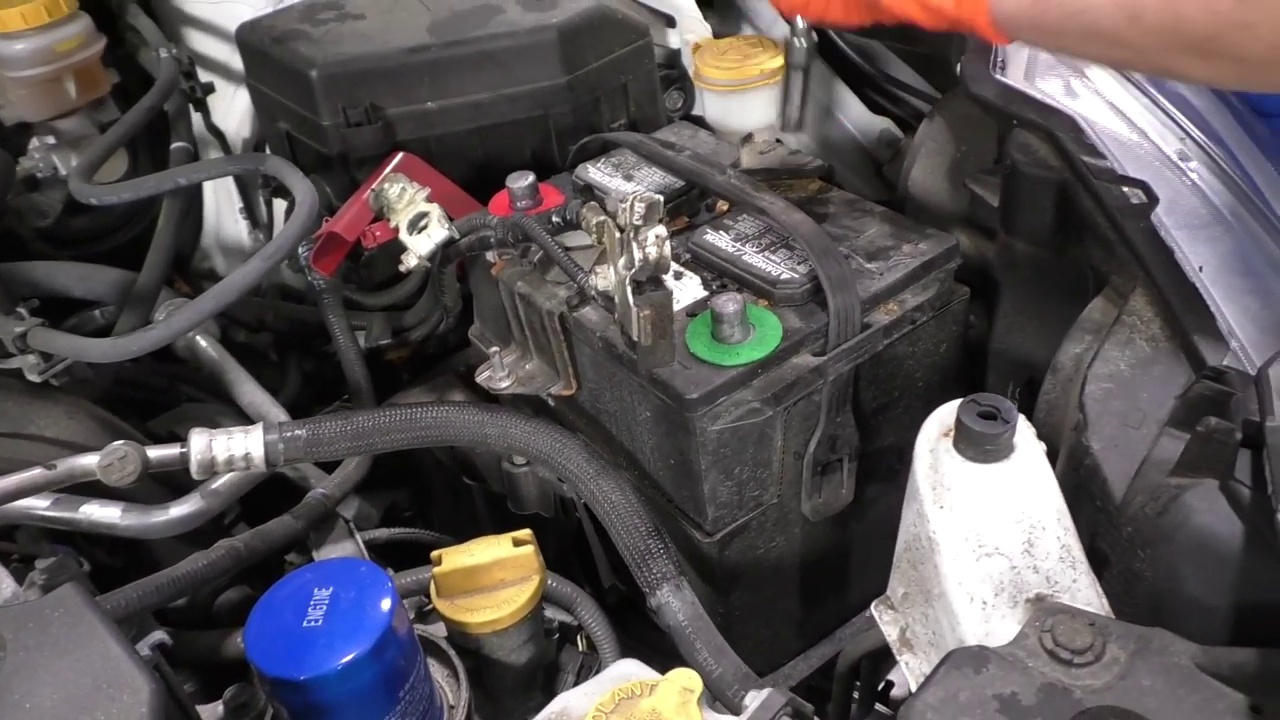battery: (468, 119, 955, 378)
neg_disconnected: (676, 283, 785, 371)
pos_disconnected: (335, 142, 561, 277)
